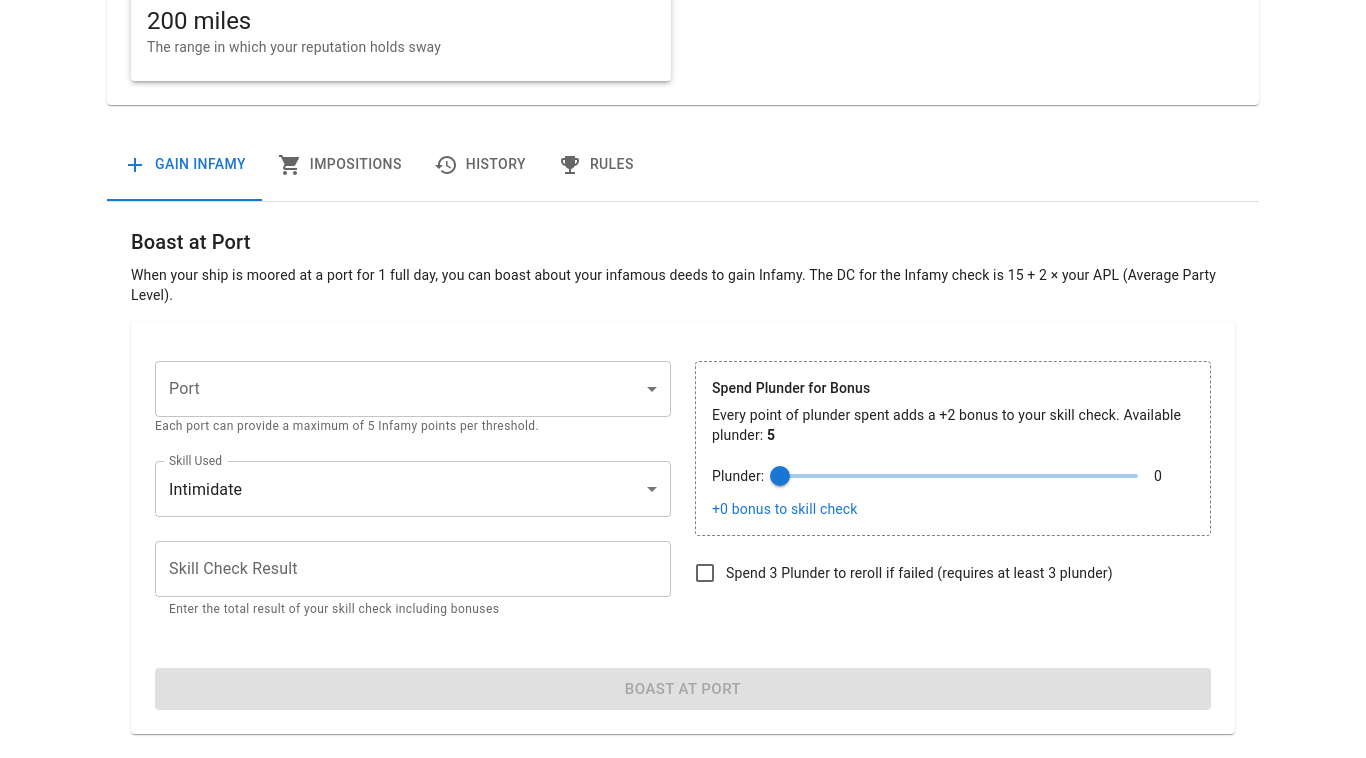
Scenario: Infamy › refreshes after a server error too and shows the server message
(page scrolled)
Click the dropdown named "Port" at [413, 389], box [155,361,671,417]
(page scrolled)
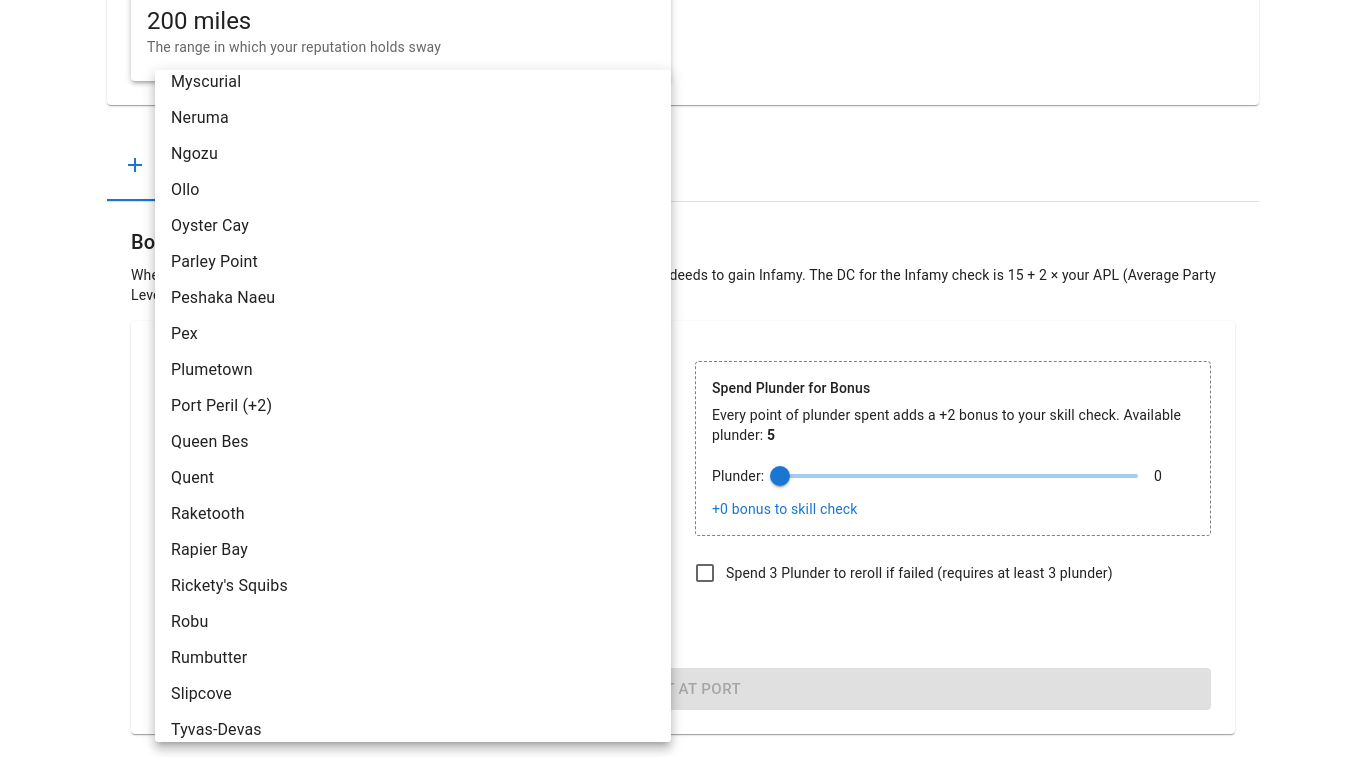
Click the option "Port Peril (+2)" at [222, 406], box [171,396,272,415]
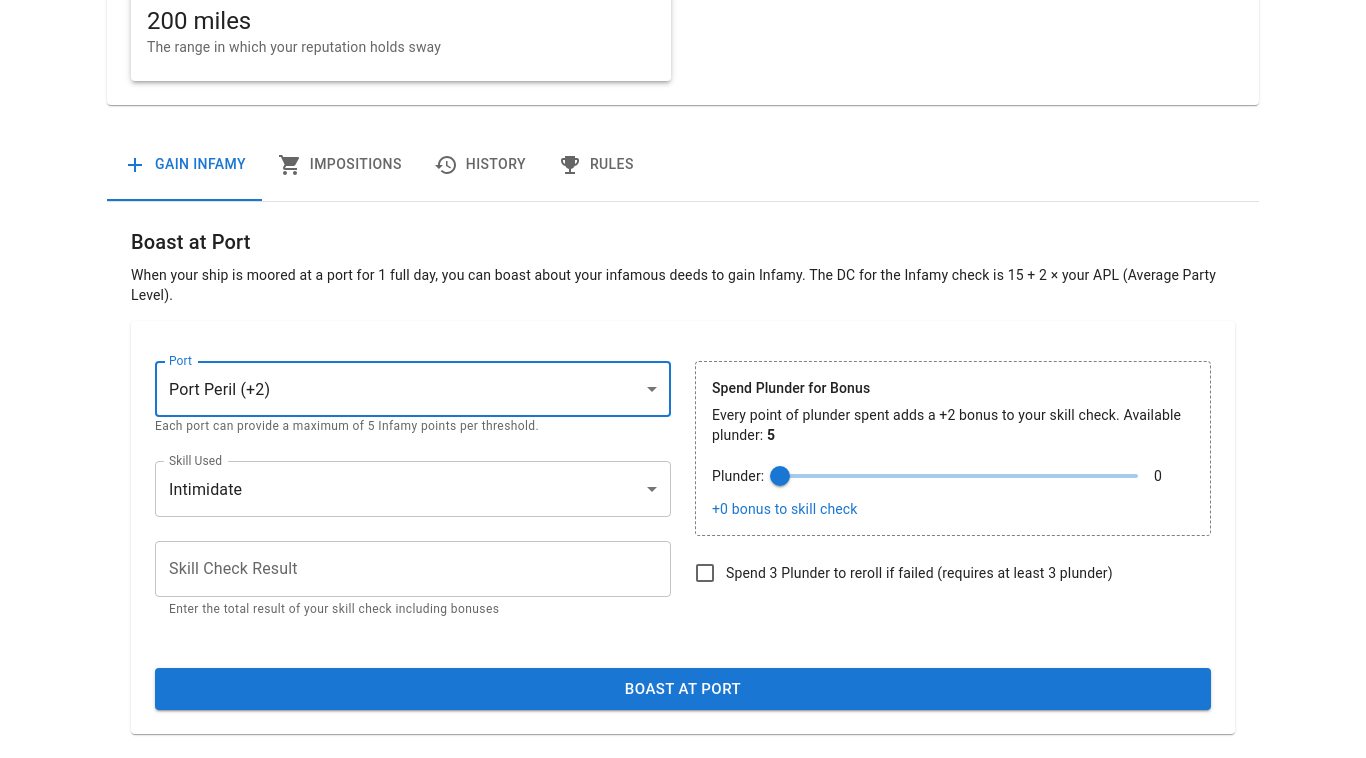
Type "30" into the number field labelled "Skill Check Result" at [413, 569], box [155,541,671,597]
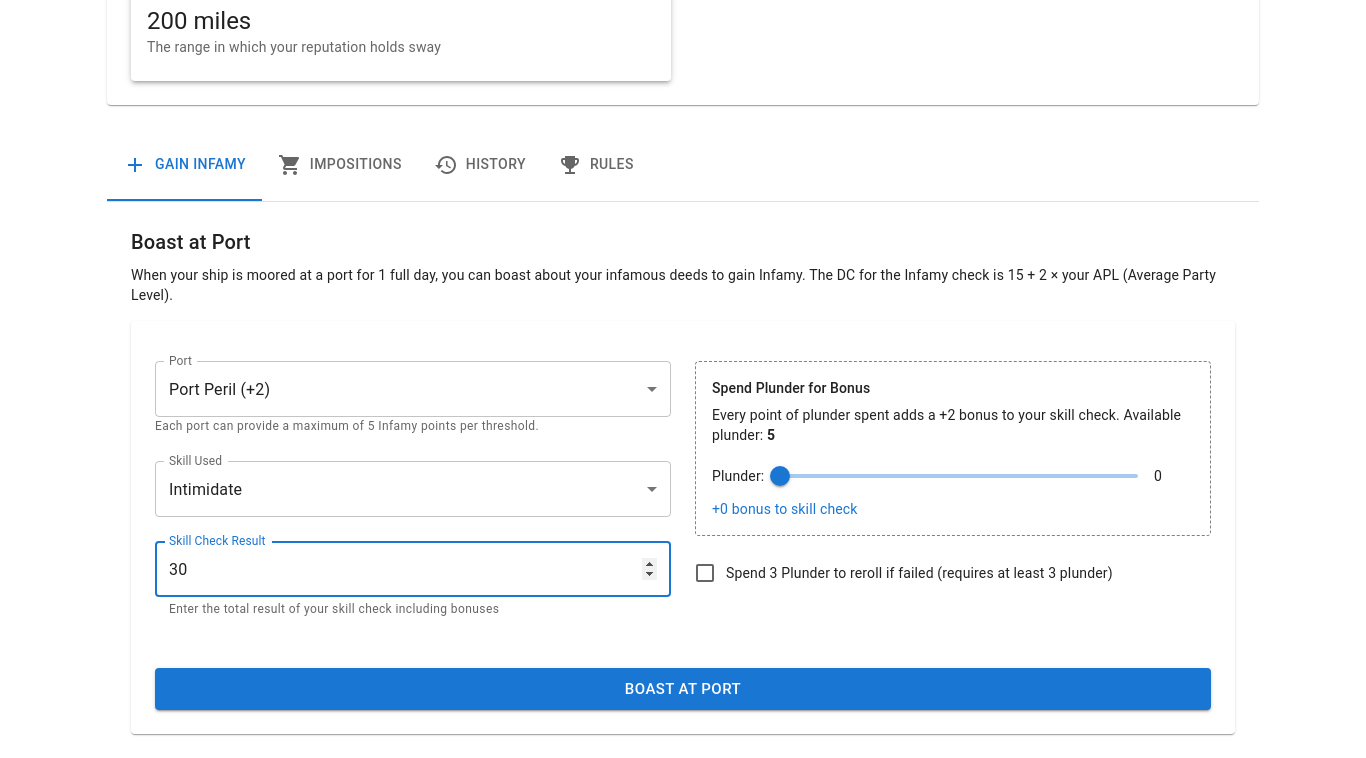
Click the button "Boast at Port" at [683, 689], box [155,668,1211,710]
(page scrolled)
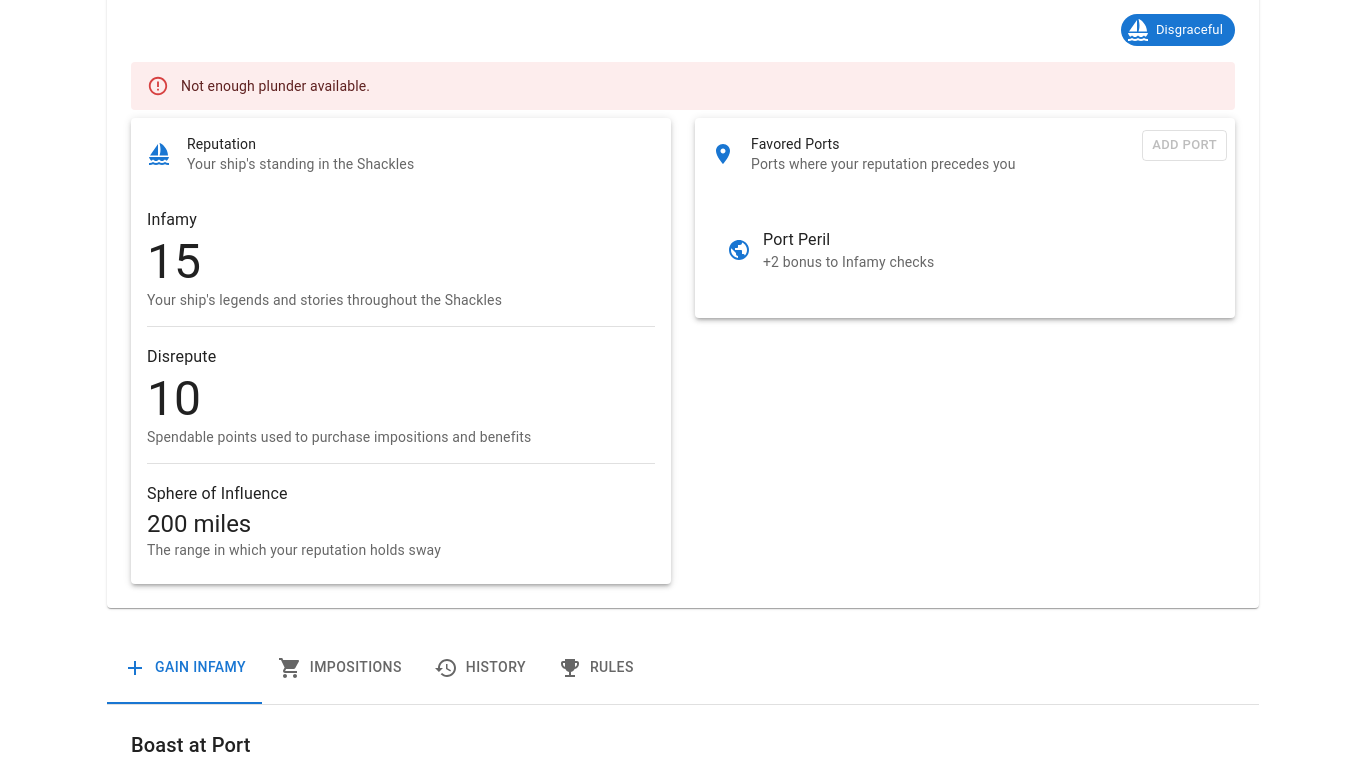
Expected: the text "Not enough plunder available." is shown, [181,78,370,94]
